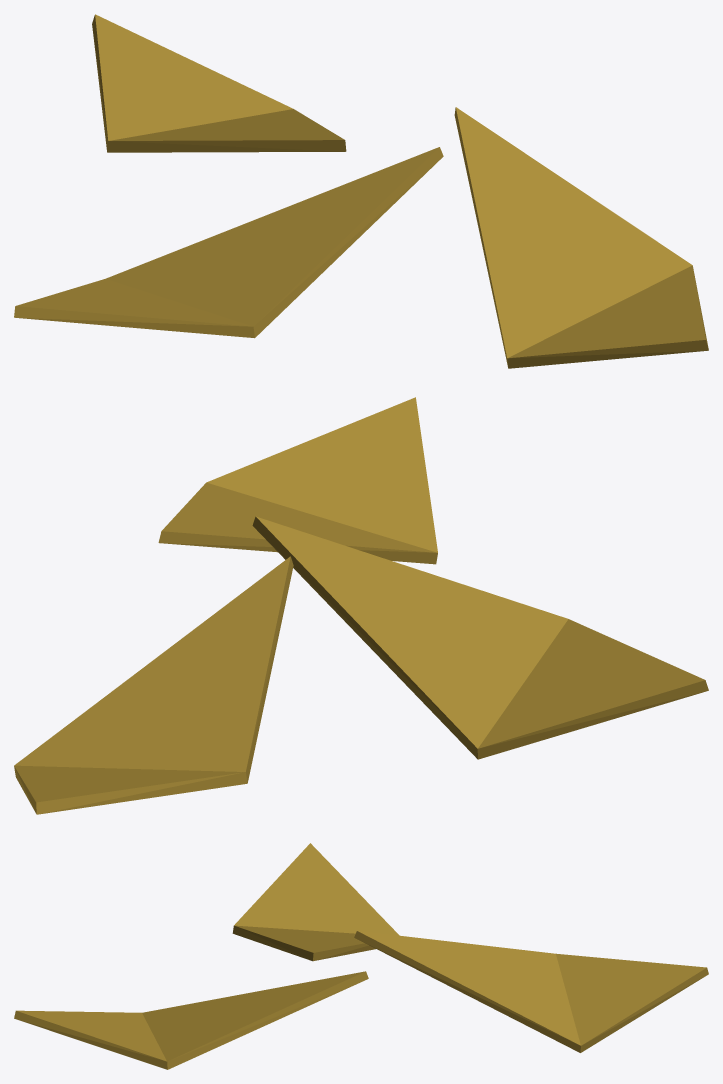
The model's file is fruit_peels.glb.
The picture shows the model from 3 angles, top to bottom: view 1: azimuth 30°, elevation 25°; view 2: azimuth 150°, elevation 25°; view 3: azimuth 270°, elevation 25°; orthographic projection. The views are drawn at different scales.
Visible parts, largest first — view 1: Body_fruit_peels.001; view 2: Body_fruit_peels.001; view 3: Body_fruit_peels.001.
Part boxes in pixels (<box>): Body_fruit_peels.001: <box>14,14,708,368</box>; Body_fruit_peels.001: <box>14,397,708,814</box>; Body_fruit_peels.001: <box>14,843,708,1069</box>.
Bounding box in the file's own units: 0.3388 × 0.0676 × 0.4944.
